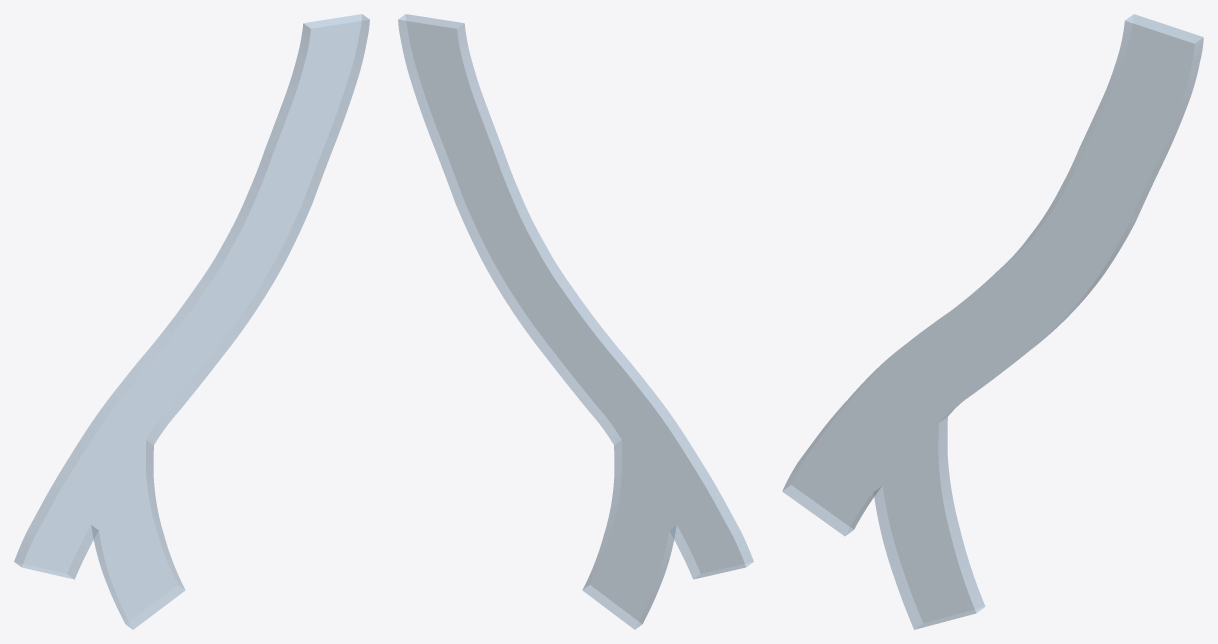
Rendered from eastern_test_0.glb.
3 renders of one model, left to right at view 1: azimuth 30°, elevation 25°; view 2: azimuth 150°, elevation 25°; view 3: azimuth 330°, elevation 25°, orthographic. The views are drawn at different scales.
Parts seen in each view (by area): view 1: from extrude; view 2: from extrude; view 3: from extrude.
Part boxes in pixels (x1,y1,x2,y2): from extrude: (14,14,369,629); from extrude: (398,14,753,629); from extrude: (782,14,1203,629).
Bounding box in the file's own units: 131 × 200 × 5.
